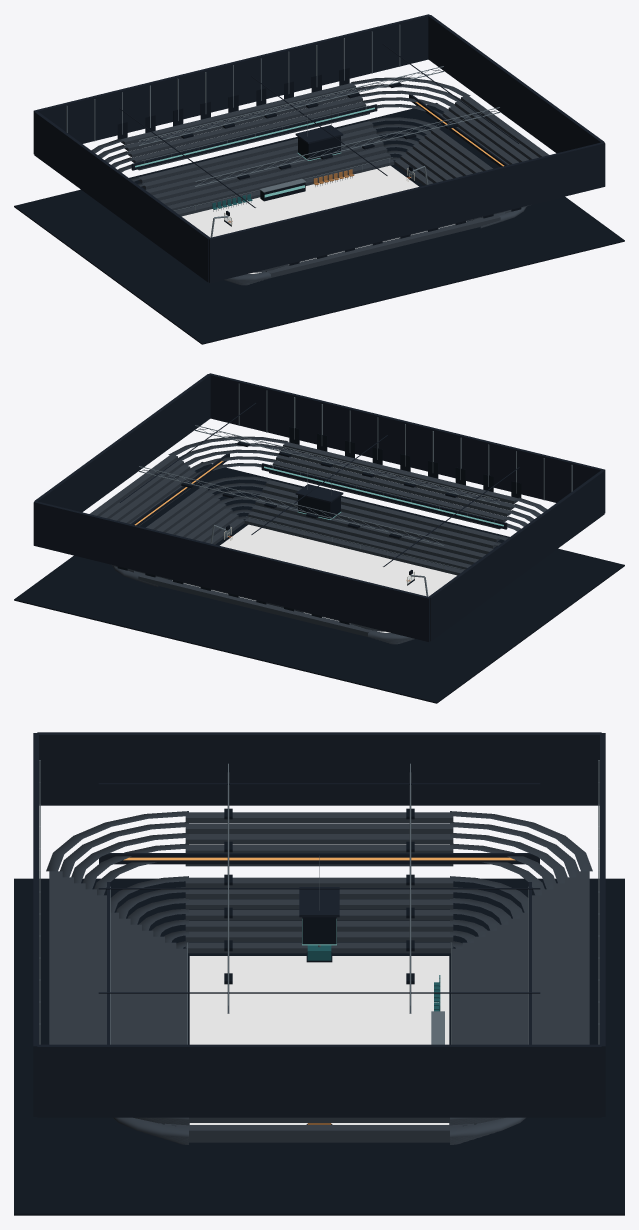
The model's file is arena-lod0.glb.
3 renders of one model, top to bottom at view 1: azimuth 30°, elevation 25°; view 2: azimuth 150°, elevation 25°; view 3: azimuth 270°, elevation 25°, orthographic. The views are drawn at different scales.
Parts seen in each view (by area): view 1: bowl__black, bowl__concrete, wall-south__structure, wall-north__structure, wall-west__structure, wall-east__structure, court__parquet, bowl__structure, roof__steel, roof__structure, bowl__steel, scoreboard__black (+4 smaller); view 2: bowl__black, bowl__concrete, wall-north__structure, wall-south__structure, wall-west__structure, wall-east__structure, court__parquet, bowl__structure, roof__steel, roof__structure, bowl__steel, scoreboard__black (+4 smaller); view 3: bowl__concrete, bowl__black, wall-east__structure, wall-west__structure, court__parquet, bowl__structure, roof__structure, wall-north__structure, wall-south__structure, ribbon__amber-led, roof__steel, scoreboard__structure (+3 smaller).
Part boxes in pixels (x1,y1,x2,y2): bowl__black: (14, 67, 624, 344); bowl__concrete: (91, 77, 548, 285); wall-south__structure: (208, 142, 605, 282); wall-north__structure: (33, 14, 429, 153); wall-west__structure: (34, 111, 210, 282); wall-east__structure: (428, 15, 604, 153); court__parquet: (182, 165, 466, 273); bowl__structure: (131, 94, 507, 170); roof__steel: (139, 66, 499, 186); roof__structure: (119, 44, 519, 207); bowl__steel: (66, 24, 400, 141); scoreboard__black: (298, 136, 340, 160); bowl__black: (14, 426, 624, 703); bowl__concrete: (90, 436, 547, 644); wall-north__structure: (33, 501, 430, 641); wall-south__structure: (209, 373, 605, 512); wall-west__structure: (428, 470, 604, 641); wall-east__structure: (34, 374, 210, 512); court__parquet: (172, 524, 456, 632); bowl__structure: (131, 453, 507, 529); roof__steel: (139, 425, 499, 545); roof__structure: (119, 403, 519, 566); bowl__steel: (238, 383, 572, 500); scoreboard__black: (298, 495, 340, 519); bowl__concrete: (46, 811, 592, 1144); bowl__black: (14, 878, 624, 1215); wall-east__structure: (37, 1044, 601, 1117); wall-west__structure: (37, 732, 601, 805); court__parquet: (189, 956, 449, 1124); bowl__structure: (99, 853, 539, 1044); roof__structure: (98, 783, 540, 1013); wall-north__structure: (600, 733, 605, 1116); wall-south__structure: (33, 733, 38, 1116); ribbon__amber-led: (123, 857, 515, 860); roof__steel: (227, 763, 411, 1013); scoreboard__structure: (299, 887, 339, 917).
Size of the model in its own units: 61 by 15.53 by 47.
